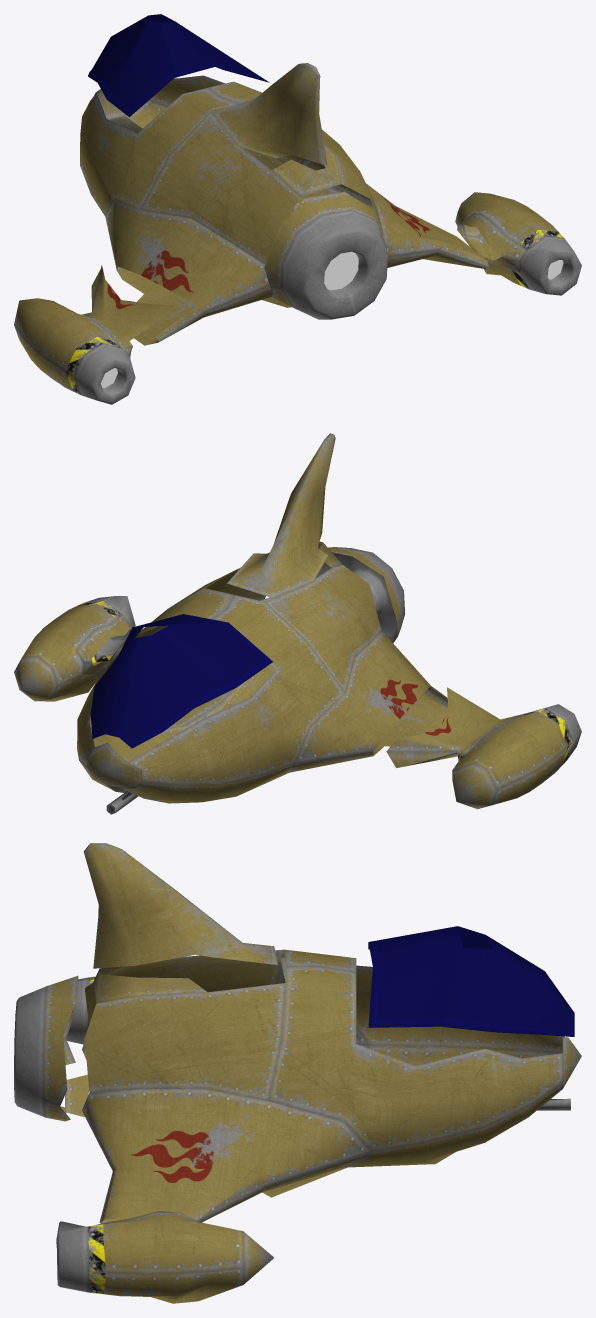
Rendered from ShipAChunks.fbx.
3 views of the same model, one above another, from view 1: azimuth 30°, elevation 25°; view 2: azimuth 150°, elevation 25°; view 3: azimuth 270°, elevation 25° (orthographic). The views are drawn at different scales.
Visible parts, largest first — view 1: shipA, shipA.005, shipA.002, shipA.001, shipA.004, shipA.003; view 2: shipA, shipA.004, shipA.002, shipA.001, shipA.003, shipA.005; view 3: shipA, shipA.004, shipA.001, shipA.003, shipA.005, shipA.002, shipA.006.
Part boxes in pixels (x1,y1,x2,y2): shipA: (80,75,488,345); shipA.005: (264,191,387,319); shipA.002: (14,265,178,404); shipA.001: (455,192,581,295); shipA.004: (88,14,269,117); shipA.003: (213,63,327,165); shipA: (77,541,447,814); shipA.004: (90,614,272,748); shipA.002: (386,687,581,809); shipA.001: (14,596,135,701); shipA.003: (227,433,335,597); shipA.005: (315,547,405,642); shipA: (82,949,581,1223); shipA.004: (368,926,574,1036); shipA.001: (56,1211,274,1303); shipA.003: (83,843,277,968); shipA.005: (14,975,78,1121); shipA.002: (66,976,95,1044); shipA.006: (65,1074,88,1116).
Bounding box in the file's own units: 7468 × 4151 × 6383.
1 material, 1 textured.
